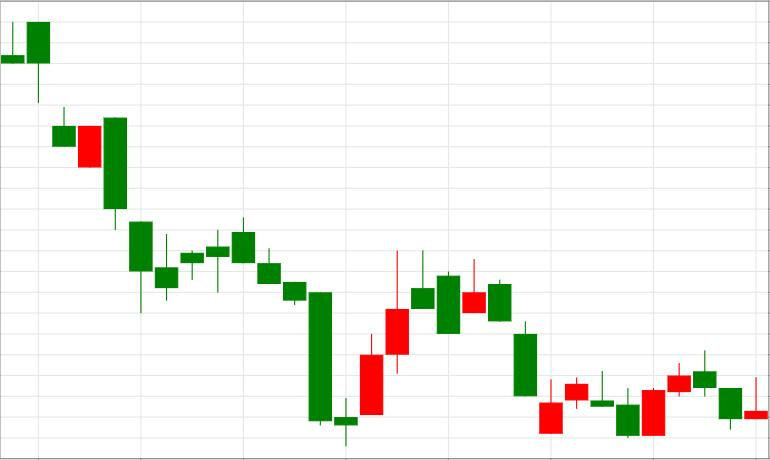morning_star_rise: (232, 217, 383, 446)
